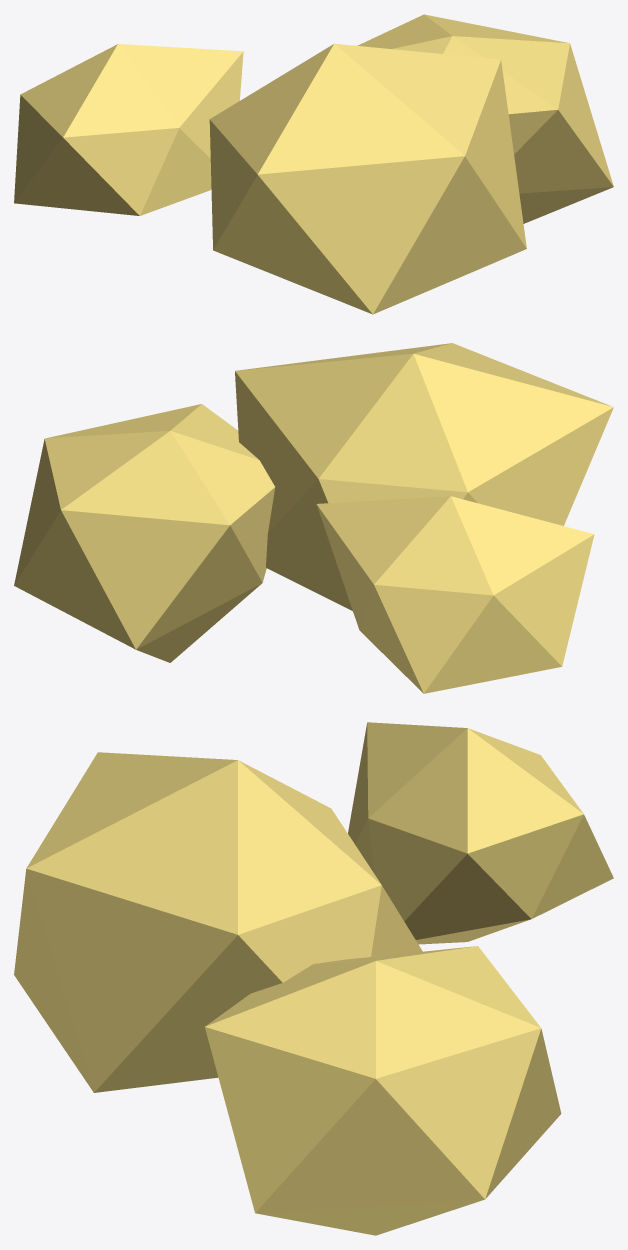
Rendered from gold_nugget_held.gltf.
3 renders of one model, top to bottom at view 1: azimuth 30°, elevation 25°; view 2: azimuth 150°, elevation 25°; view 3: azimuth 270°, elevation 25°, orthographic. The views are drawn at different scales.
Parts seen in each view (by area): view 1: inferno_gold_nugget_held; view 2: inferno_gold_nugget_held; view 3: inferno_gold_nugget_held.
Part boxes in pixels (x1=…): inferno_gold_nugget_held: x1=14, y1=14, x2=613, y2=314; inferno_gold_nugget_held: x1=14, y1=343, x2=613, y2=693; inferno_gold_nugget_held: x1=14, y1=722, x2=613, y2=1235.
Bounding box in the file's own units: 0.0662 × 0.0355 × 0.0523.
